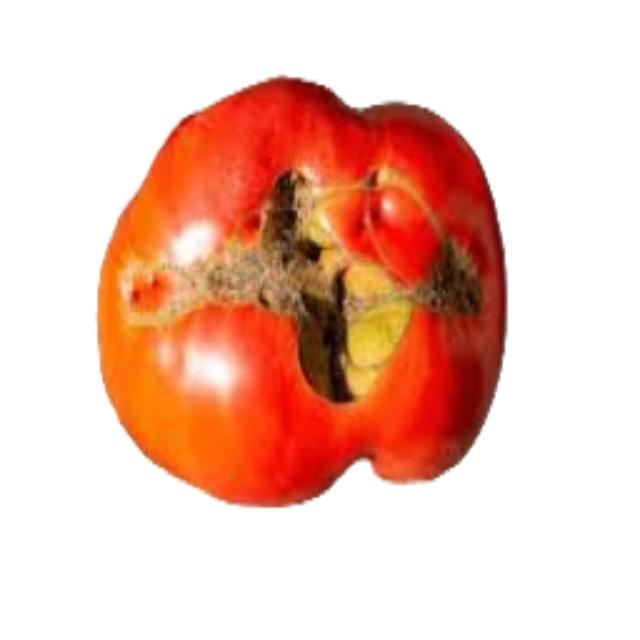defect: (93, 72, 515, 511)
